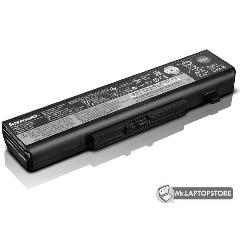electronic: (0, 10, 240, 180)
